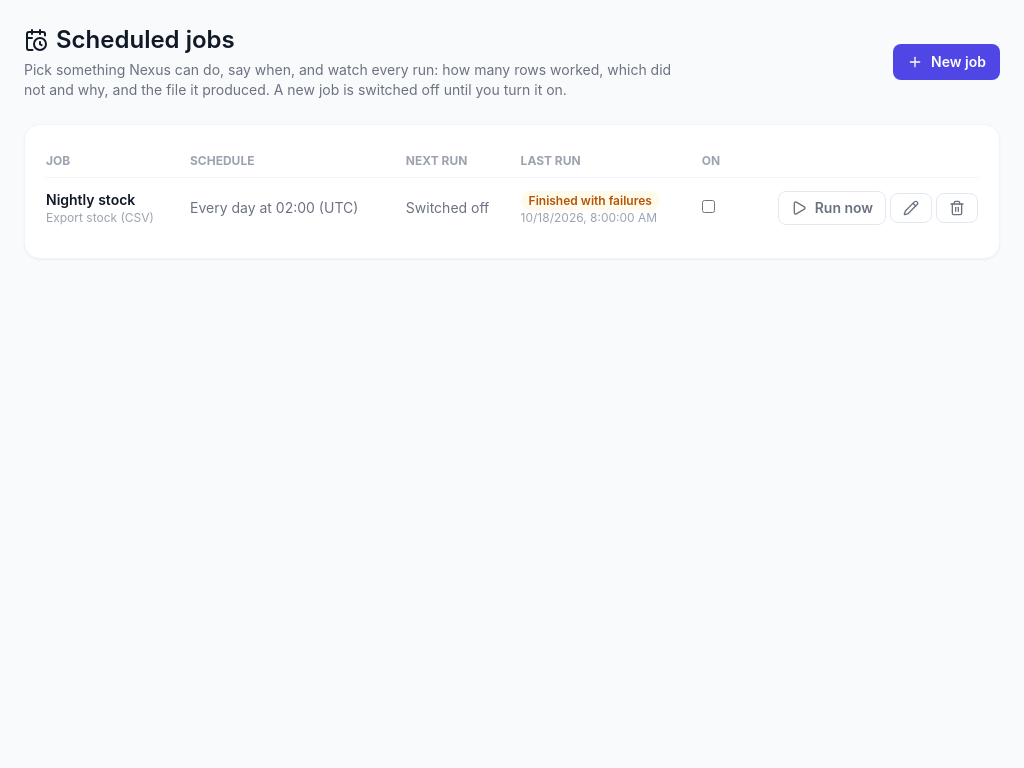
Scenario: JobsPage › shows the rows that failed with the reason, and offers both downloads
Click the button "Nightly stock": click(91, 200) [46, 190, 135, 210]
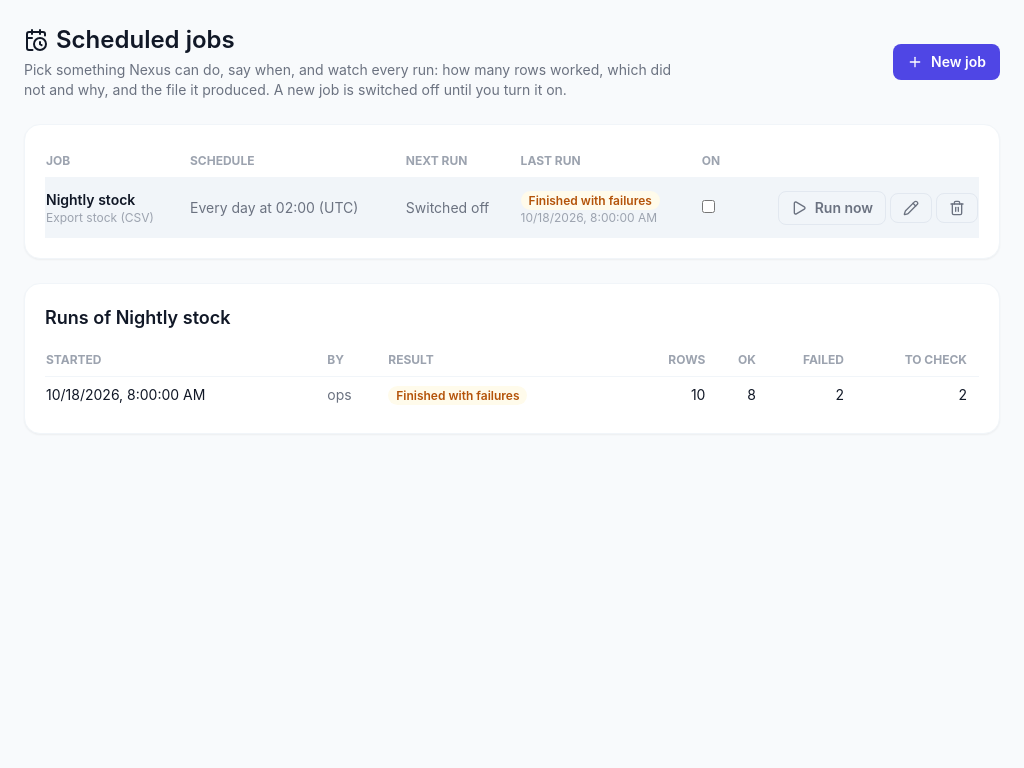
Click the text "Finished with failures" next to "ops": click(458, 396) [388, 386, 528, 405]
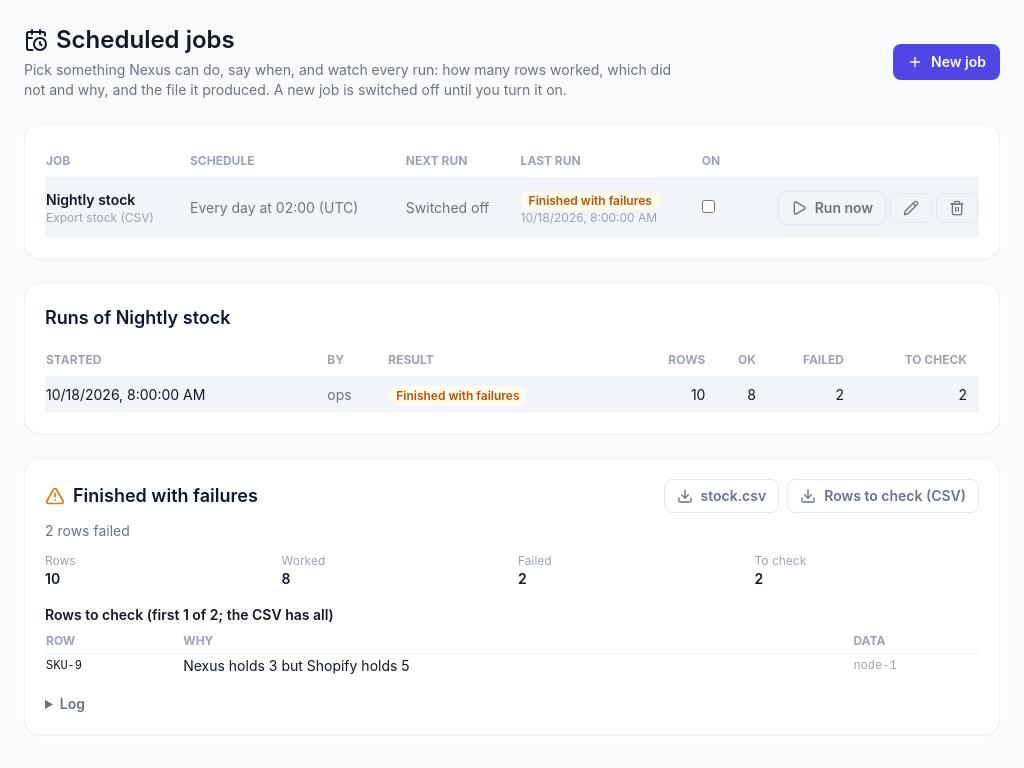
Expected: the text "Nexus holds 3 but Shopify holds 5" is shown, [182, 654, 852, 678]
Expected: the text "SKU-9" is shown, [45, 654, 182, 678]
Expected: the button "stock.csv" is shown, [664, 479, 779, 513]
